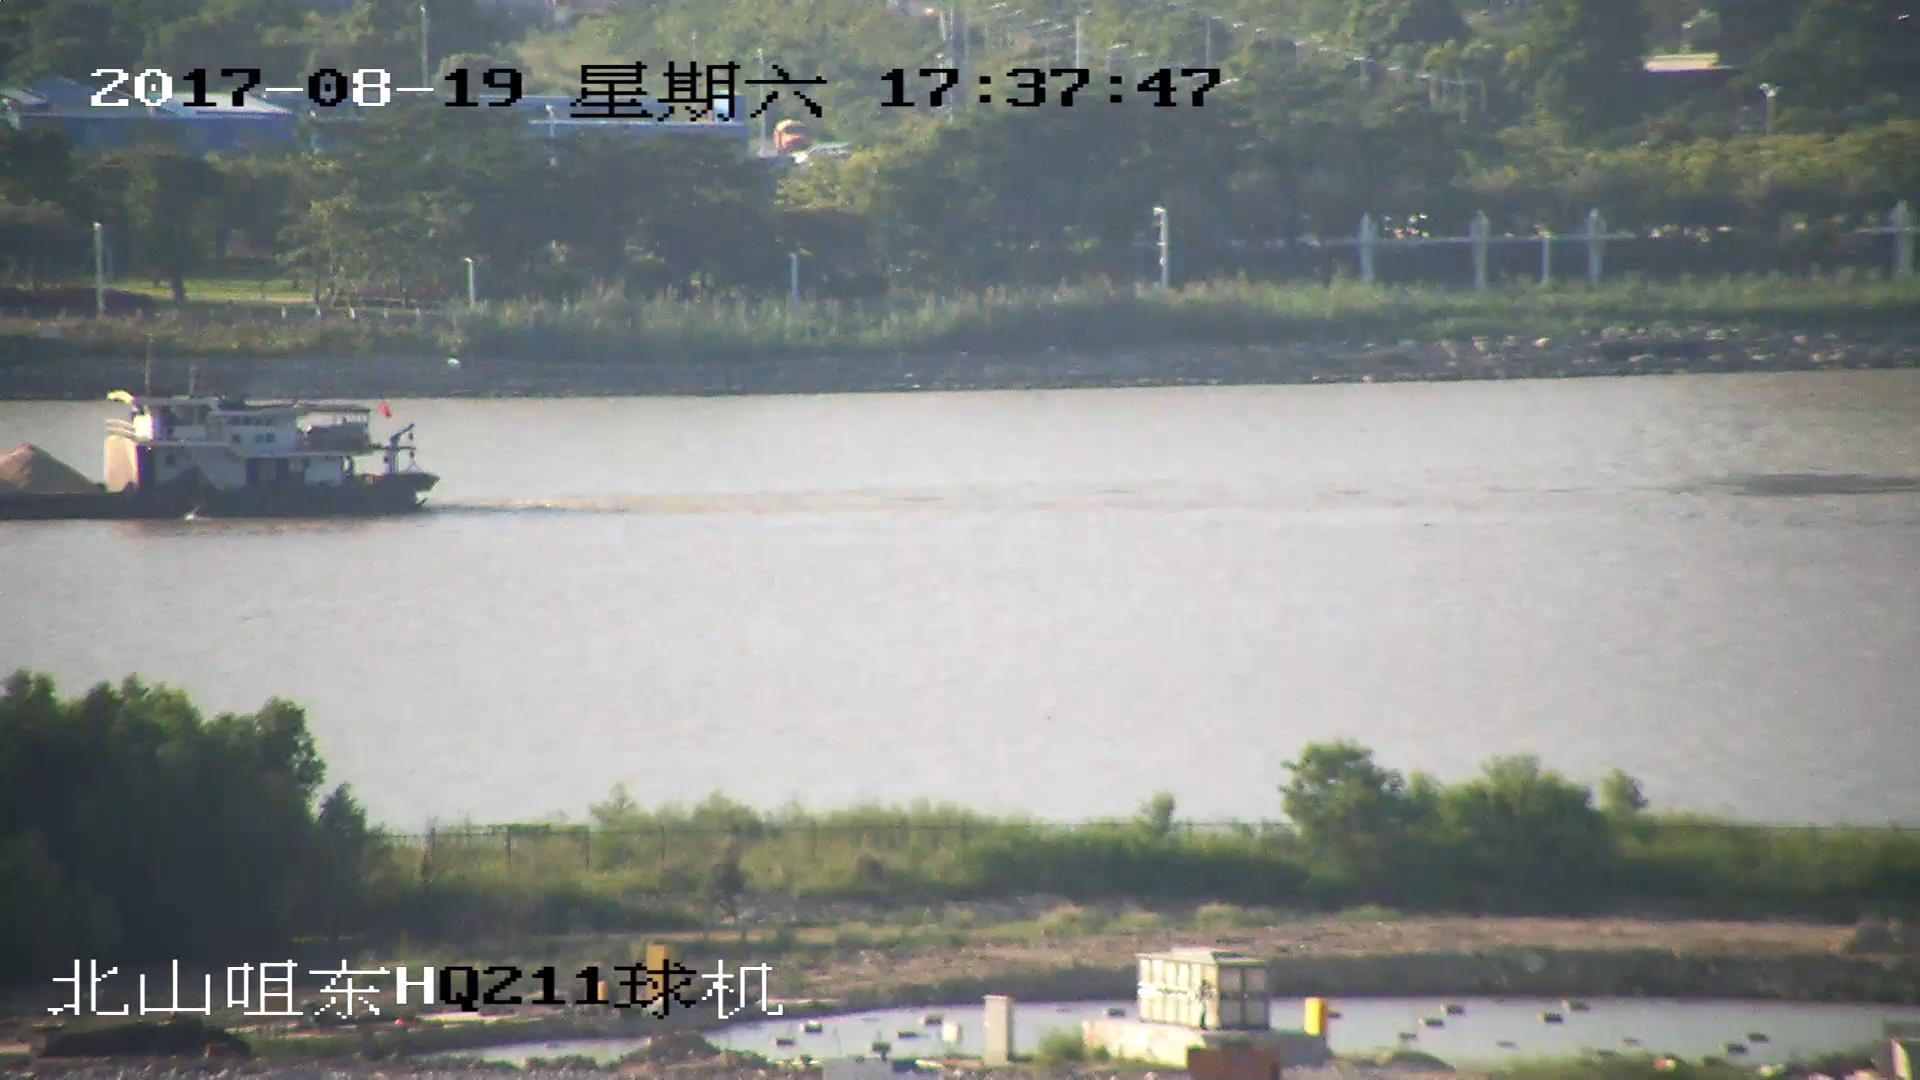Ship: (3, 376, 440, 521)
